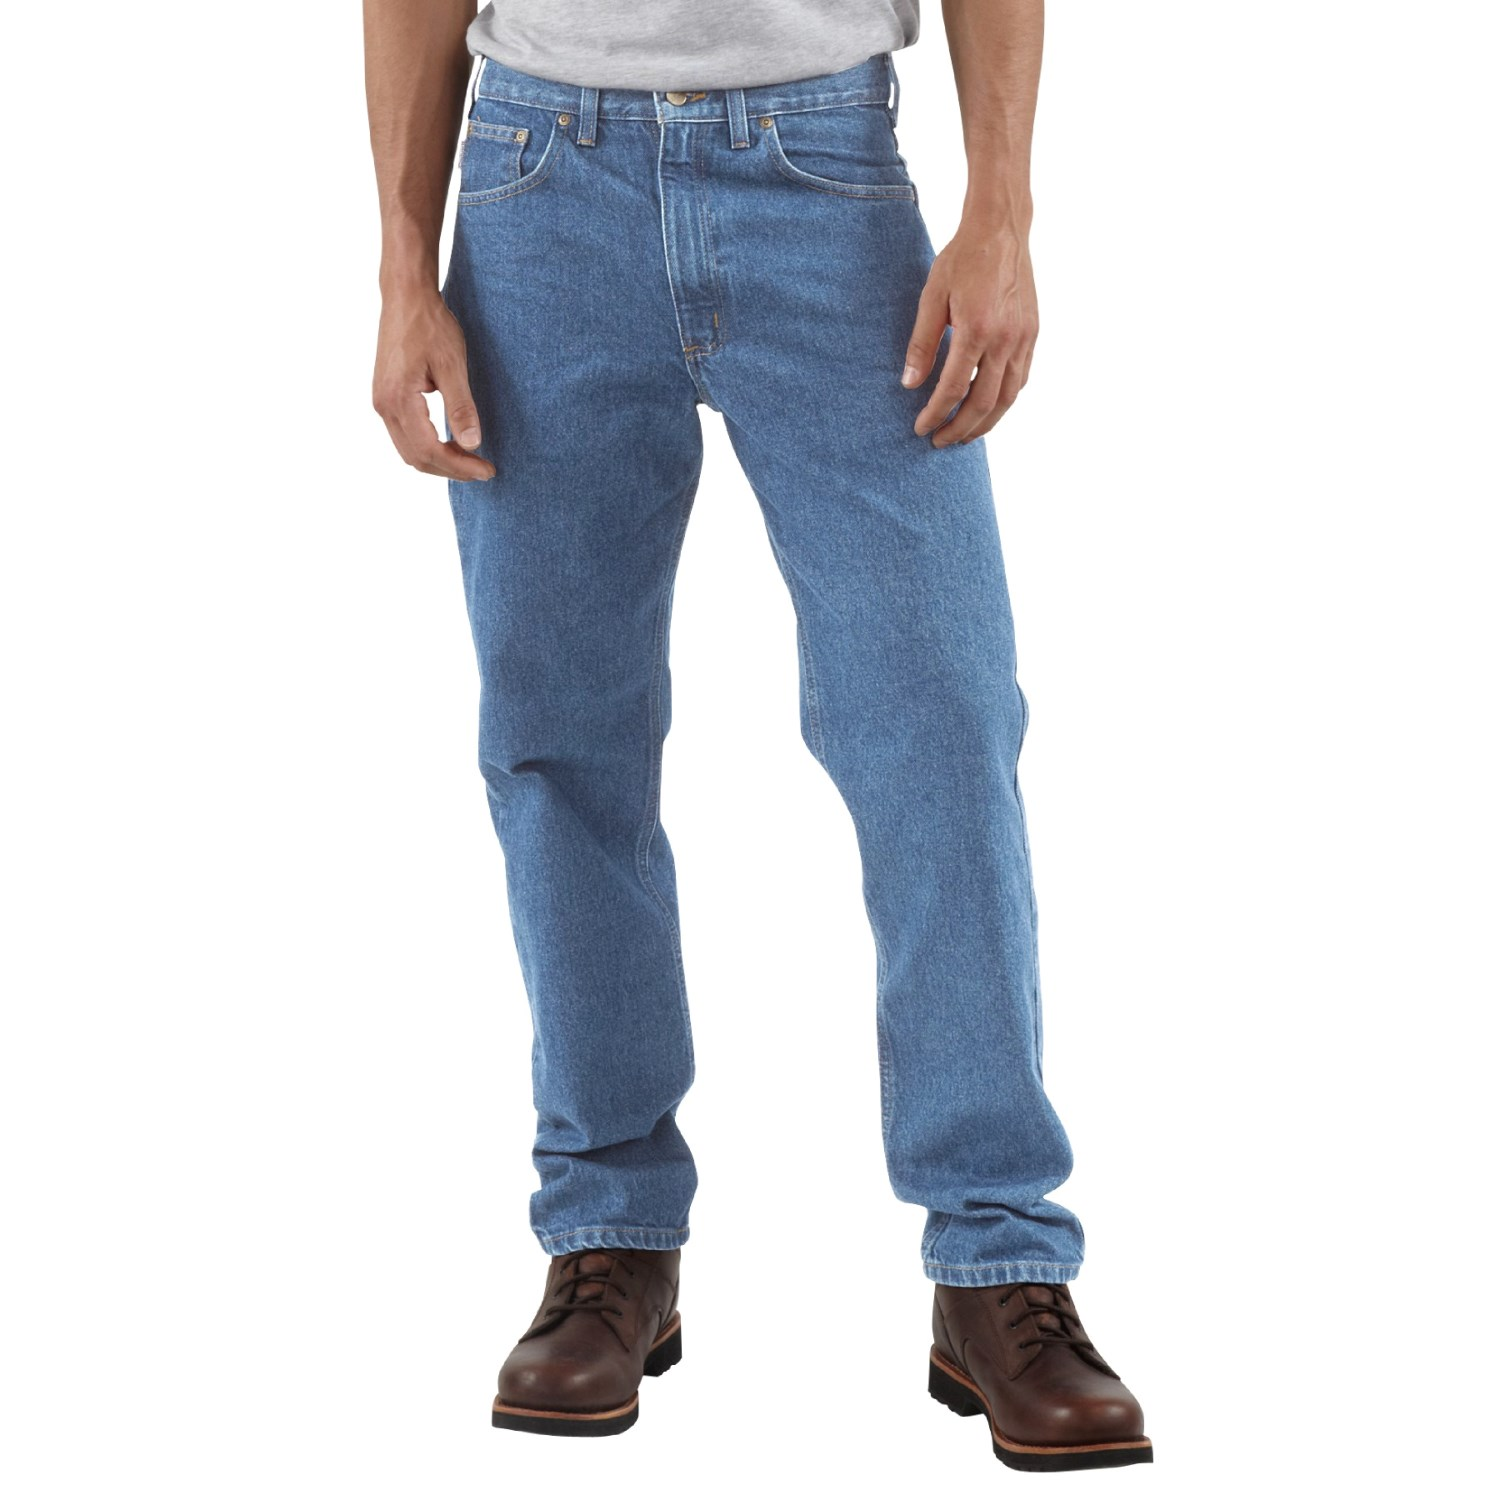Jeans: (391, 54, 1104, 1294)
